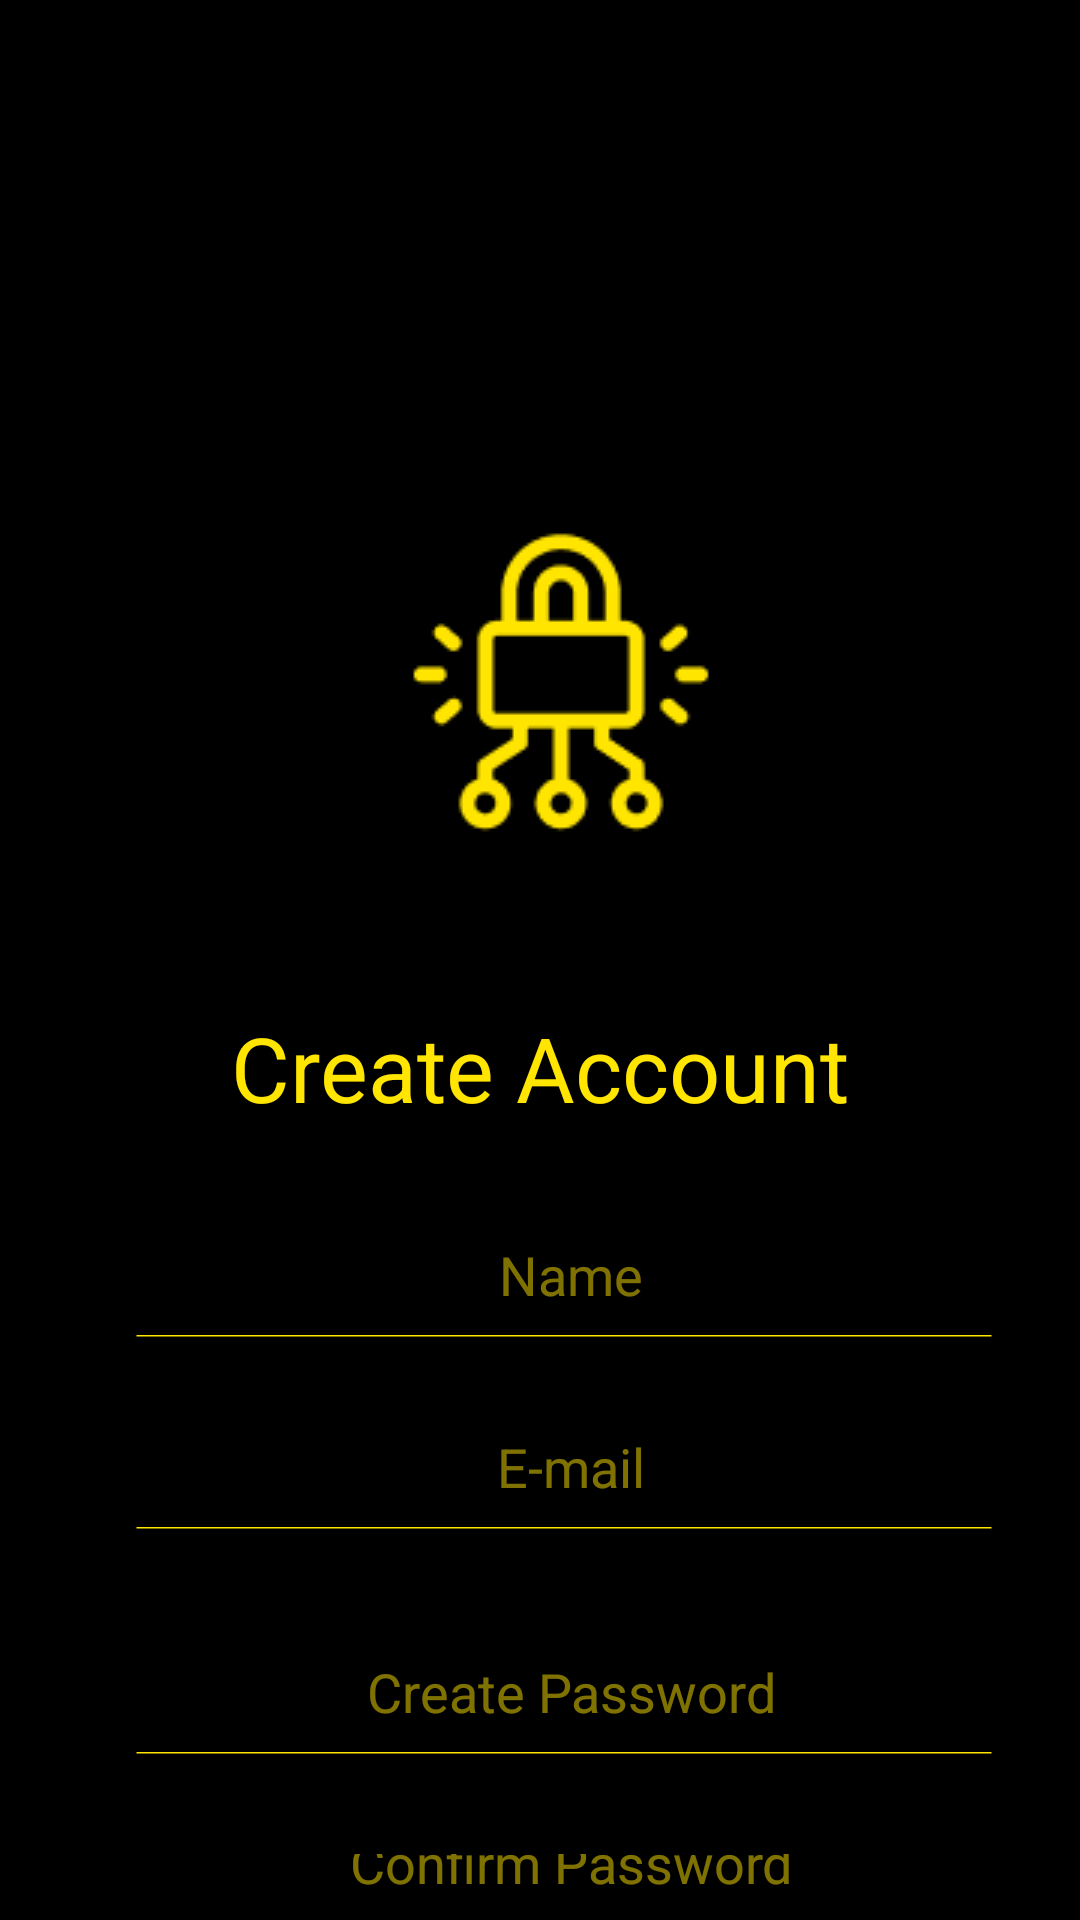

Icons on this 1080px×1920px Android screen, each with the point to tap as (x,y):
noun encryption: (561,682)
